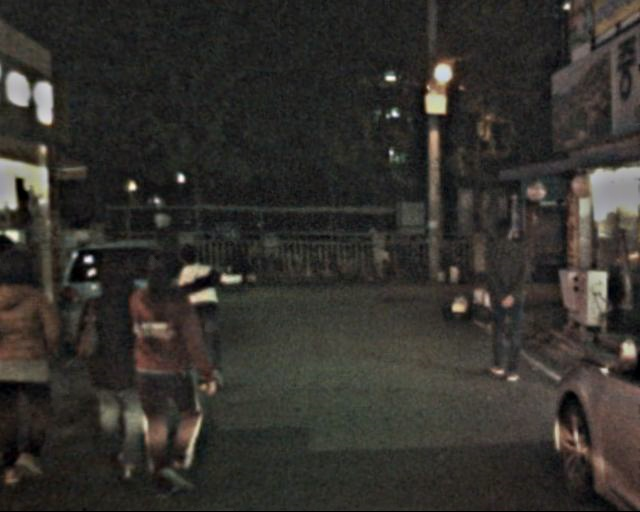person: (116, 246, 210, 503), (76, 238, 166, 475), (1, 244, 67, 500), (471, 211, 533, 387), (177, 236, 233, 395)
